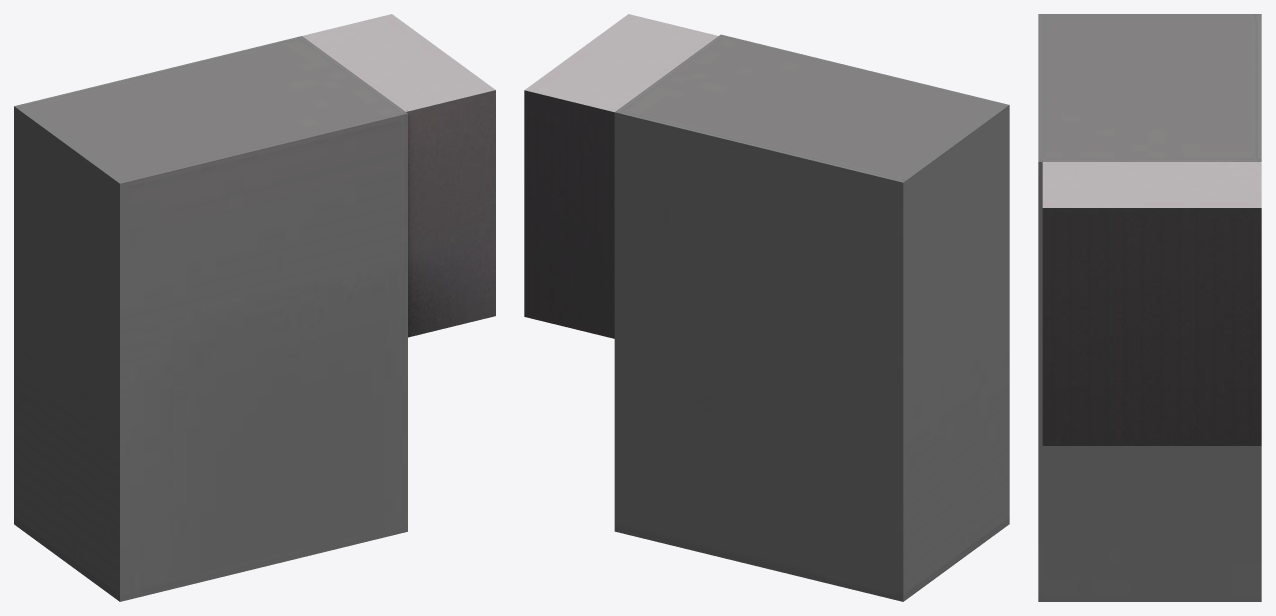
The model's file is robotController.glb.
The picture shows the model from 3 angles, left to right: view 1: azimuth 30°, elevation 25°; view 2: azimuth 150°, elevation 25°; view 3: azimuth 270°, elevation 25°; orthographic projection. The views are drawn at different scales.
Parts seen in each view (by area): view 1: Asset3DLoader.sceneRoot; view 2: Asset3DLoader.sceneRoot; view 3: Asset3DLoader.sceneRoot.
Part boxes in pixels (bbox=[...]): Asset3DLoader.sceneRoot: bbox=[14, 14, 495, 601]; Asset3DLoader.sceneRoot: bbox=[524, 14, 1009, 601]; Asset3DLoader.sceneRoot: bbox=[1038, 14, 1261, 601].
Size of the model in its own units: 1050 by 1110 by 510.
2 materials, 2 textured.
